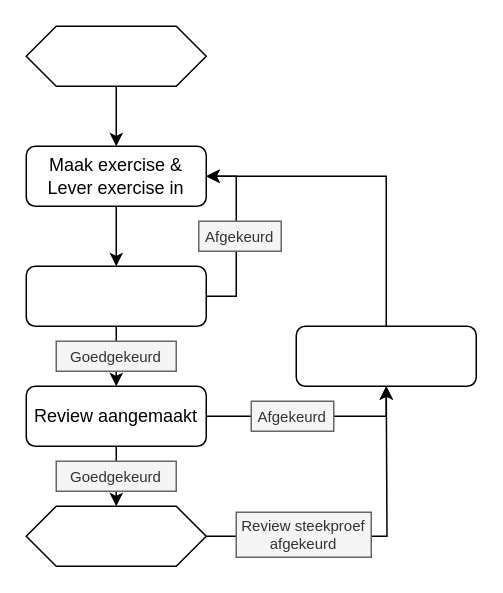
This 503x593 diagram has some shape labels left out. Each missing label, with the centre of its shape:
BLAST: (x=115, y=295)
Exercise afgerond: (x=115, y=535)
Exercise heropend: (x=385, y=355)
Start exercise: (x=115, y=55)
